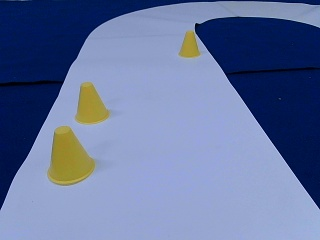cone: (47, 127, 95, 184), (74, 83, 109, 123), (178, 31, 199, 57)
